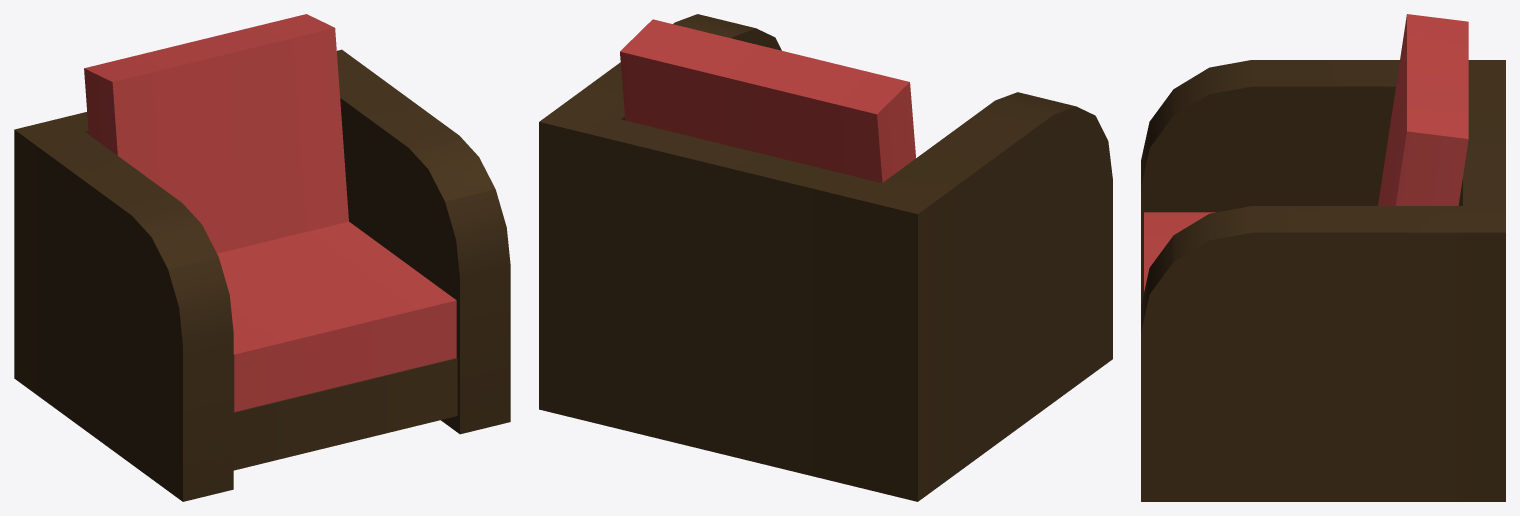
File: Armchair.fbx
The picture shows the model from 3 angles, left to right: view 1: azimuth 30°, elevation 25°; view 2: azimuth 150°, elevation 25°; view 3: azimuth 270°, elevation 25°; orthographic projection. The views are drawn at different scales.
Parts seen in each view (by area): view 1: Armchair; view 2: Armchair; view 3: Armchair.
Part boxes in pixels (box(x1,y1,x2,y2)): Armchair: box(14, 14, 510, 501); Armchair: box(539, 14, 1112, 501); Armchair: box(1141, 14, 1505, 501).
Size of the model in its own units: 117 by 108 by 104.
